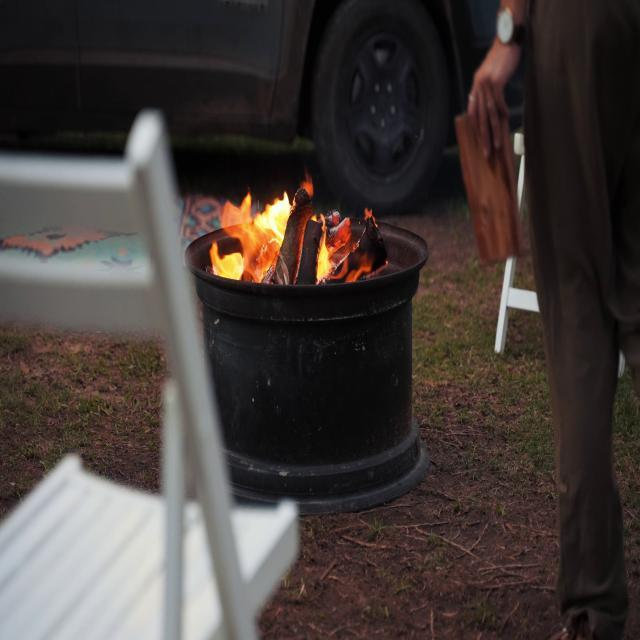Fire: (207, 176, 343, 282)
